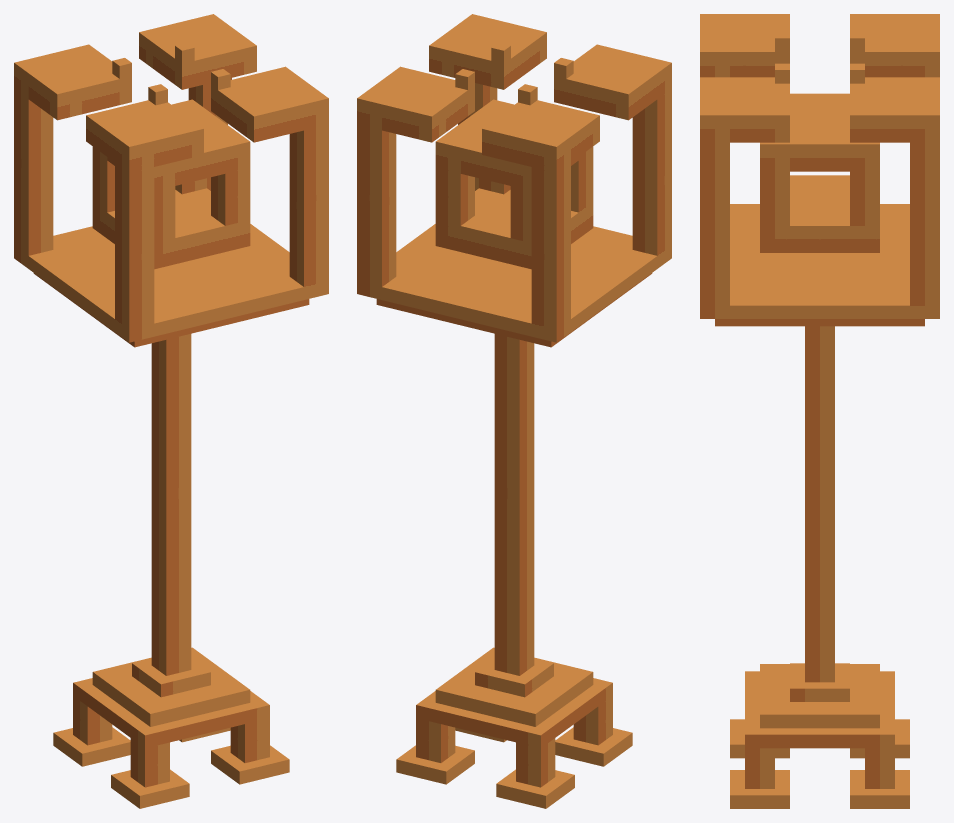
Rendered from throne_thingao.fezao.glb.
The picture shows the model from 3 angles, left to right: view 1: azimuth 30°, elevation 25°; view 2: azimuth 150°, elevation 25°; view 3: azimuth 270°, elevation 25°; orthographic projection. The views are drawn at different scales.
Visible parts, largest first — view 1: THRONE_THINGAO; view 2: THRONE_THINGAO; view 3: THRONE_THINGAO.
Boxes of the visible parts, x1=… form: THRONE_THINGAO: x1=14, y1=14, x2=328, y2=808; THRONE_THINGAO: x1=357, y1=14, x2=671, y2=808; THRONE_THINGAO: x1=700, y1=14, x2=939, y2=808.
Size of the model in its own units: 1 by 3.31 by 1.
Materials: 1 (1 with a texture image).
